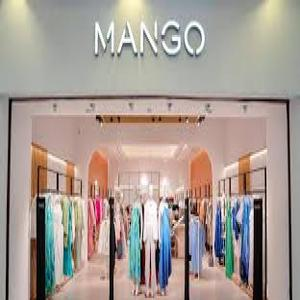mango: (91, 19, 207, 59)
